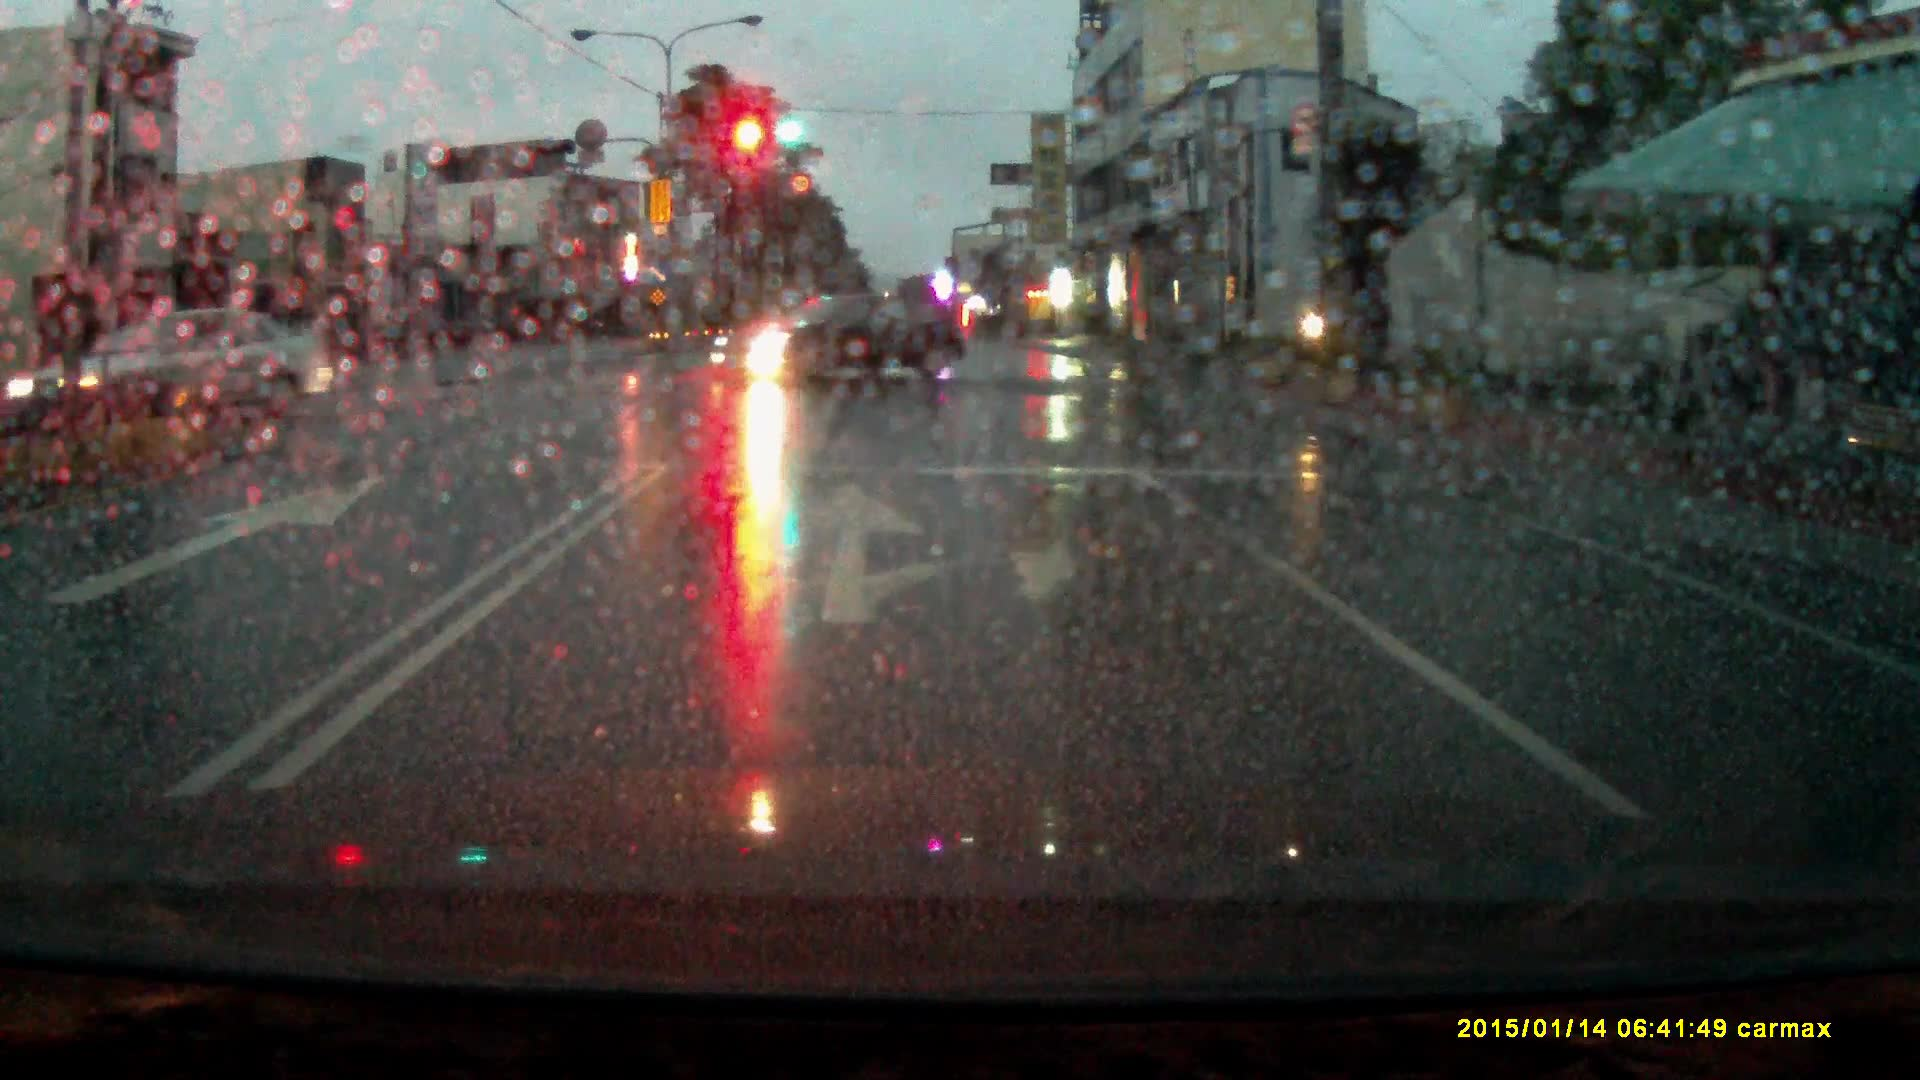vehicle: (33, 306, 347, 421), (709, 289, 964, 388)
